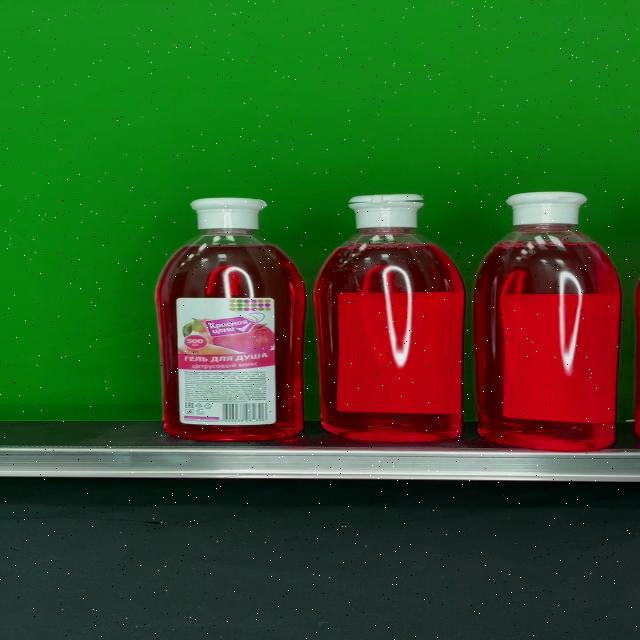Bottle: (475, 190, 622, 450), (314, 193, 464, 442), (156, 196, 305, 441)
Cap: (506, 191, 588, 226), (190, 197, 268, 231), (348, 193, 425, 227)
